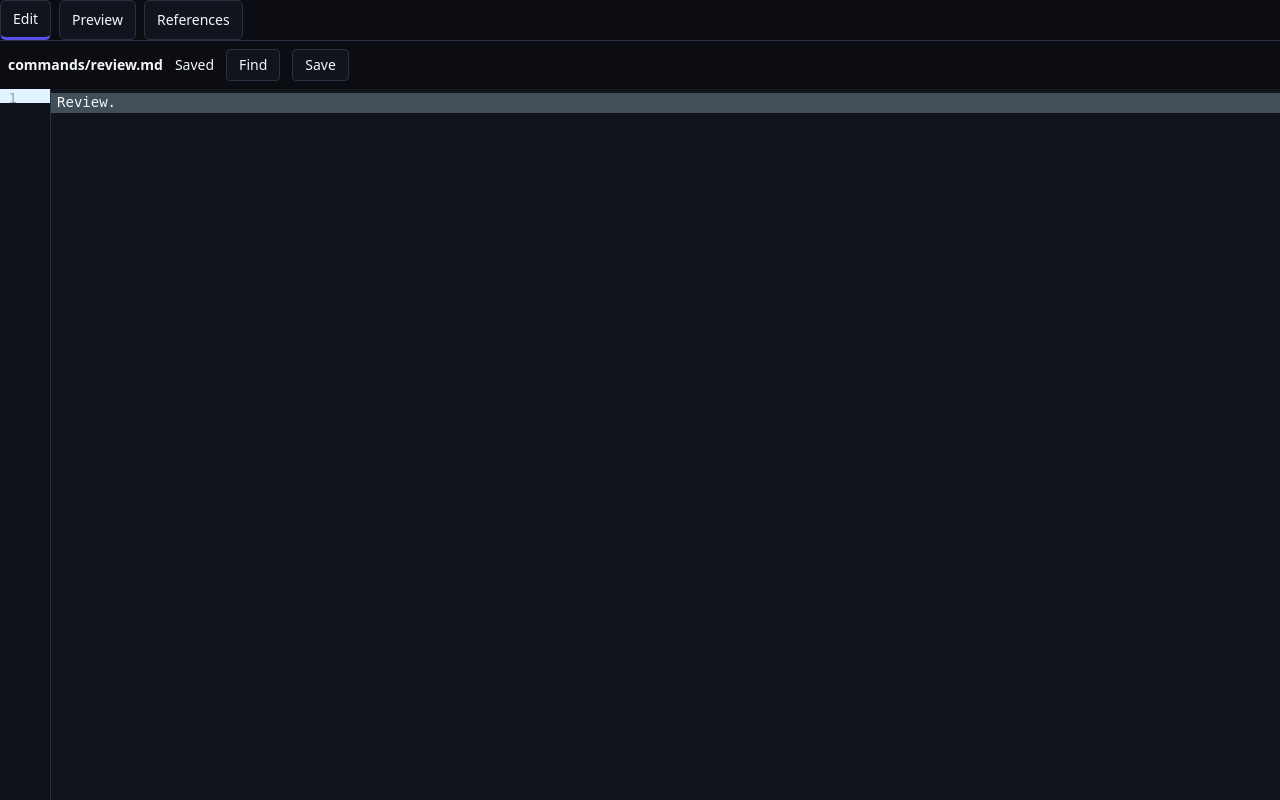
Test: does not claim no consumers while saved references are unavailable
What coordinates should you click on to do the following:
click the tab "References"
I would click on:
 (193, 20)
Its box is [144,0,243,40].
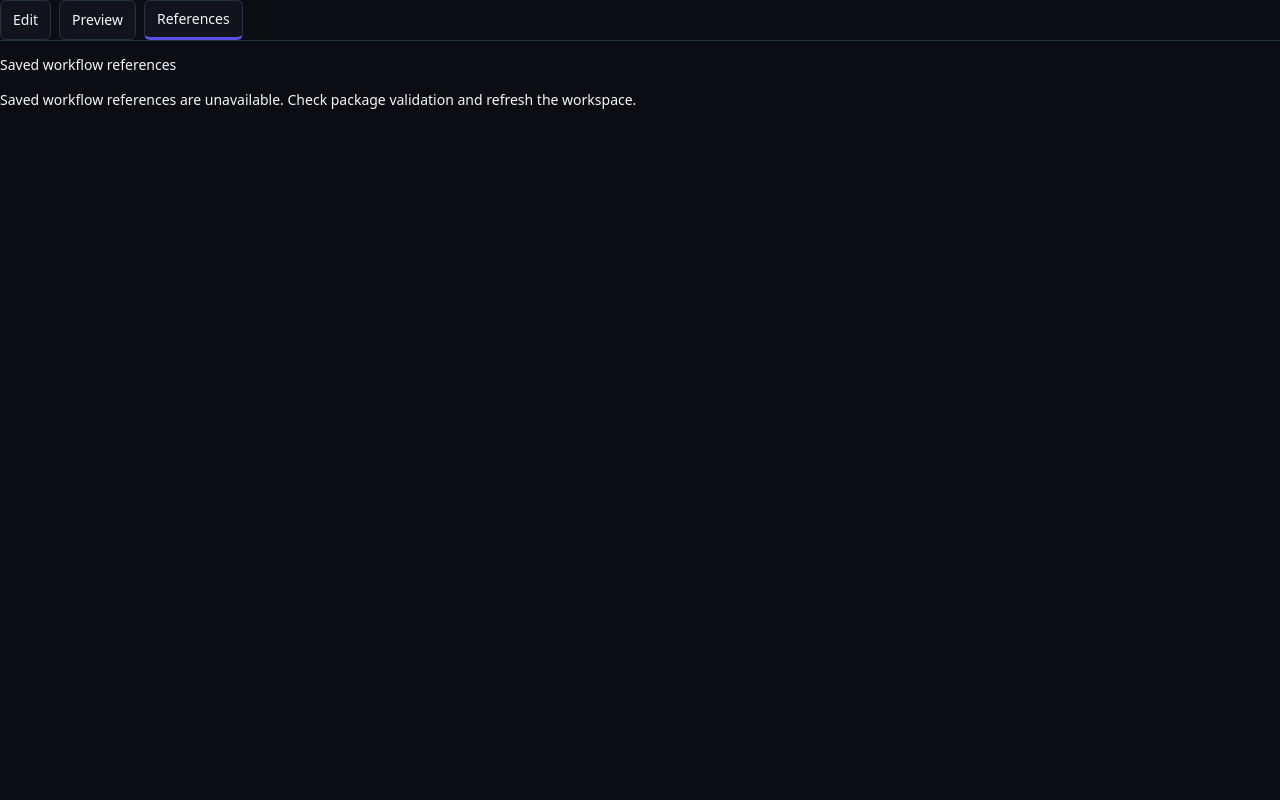
Expected: the message shows "Saved workflow references are unavailable", [0,90,636,109]
